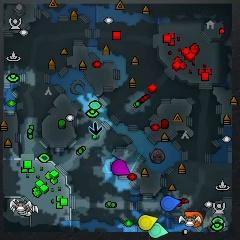p1: (160, 196, 182, 212)
p2: (149, 223, 169, 238)
p3: (111, 160, 131, 175)
p4: (138, 215, 158, 231)
p5: (184, 211, 203, 227)
x3Clone: (88, 122, 103, 135)
